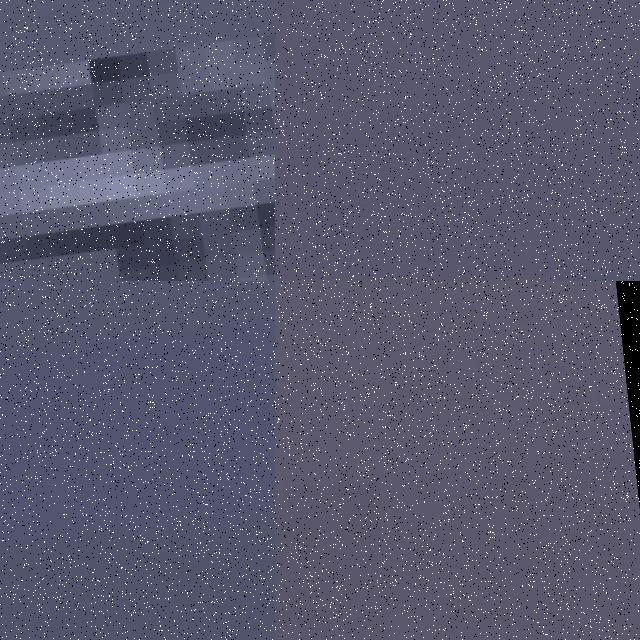drone: (0, 0, 275, 281)
